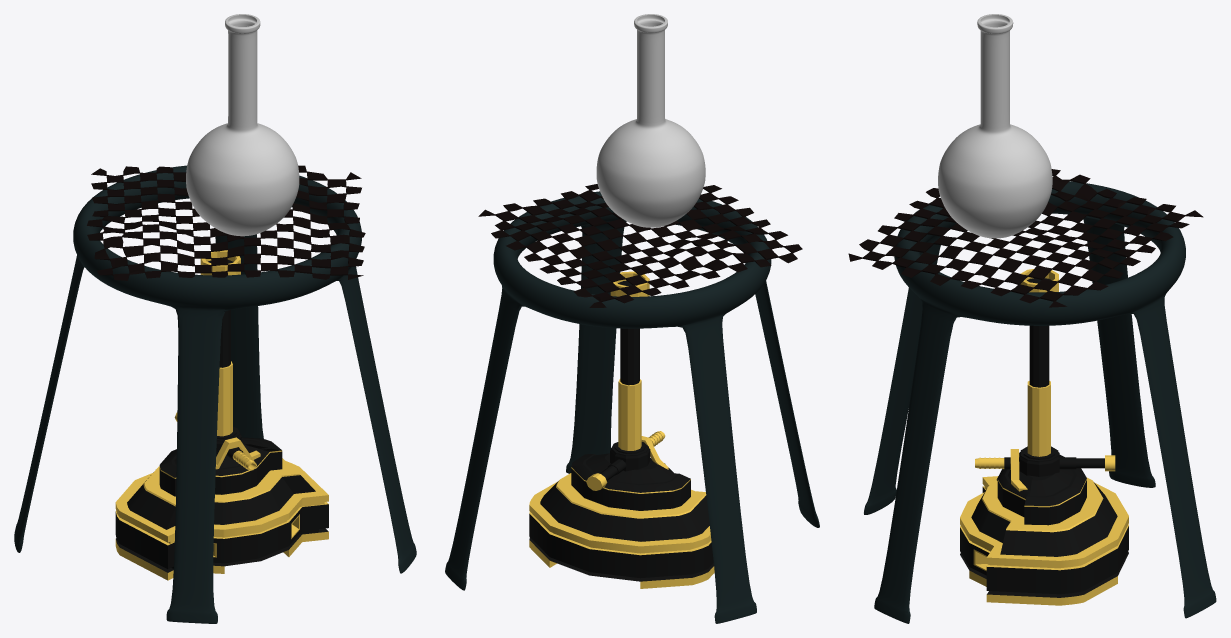
Rendered from mechero.obj.
The picture shows the model from 3 angles, left to right: view 1: azimuth 30°, elevation 25°; view 2: azimuth 150°, elevation 25°; view 3: azimuth 270°, elevation 25°; orthographic projection. The views are drawn at different scales.
Visible parts, largest first — view 1: Torus.001, Cylinder.001, Plane.001, Cylinder.008; view 2: Torus.001, Cylinder.001, Plane.001, Cylinder.008; view 3: Torus.001, Cylinder.001, Plane.001, Cylinder.008.
Part boxes in pixels (x1,y1,x2,y2): Torus.001: (14, 165, 416, 623); Cylinder.001: (115, 250, 328, 580); Plane.001: (87, 165, 365, 280); Cylinder.008: (186, 14, 299, 236); Torus.001: (445, 191, 819, 623); Cylinder.001: (529, 271, 714, 588); Plane.001: (478, 184, 802, 307); Cylinder.008: (596, 14, 705, 227); Torus.001: (864, 181, 1216, 623); Cylinder.001: (960, 269, 1128, 605); Plane.001: (848, 169, 1203, 307); Cylinder.008: (938, 14, 1052, 238).
Bounding box in the file's own units: 5.99 × 9.78 × 6.03.
